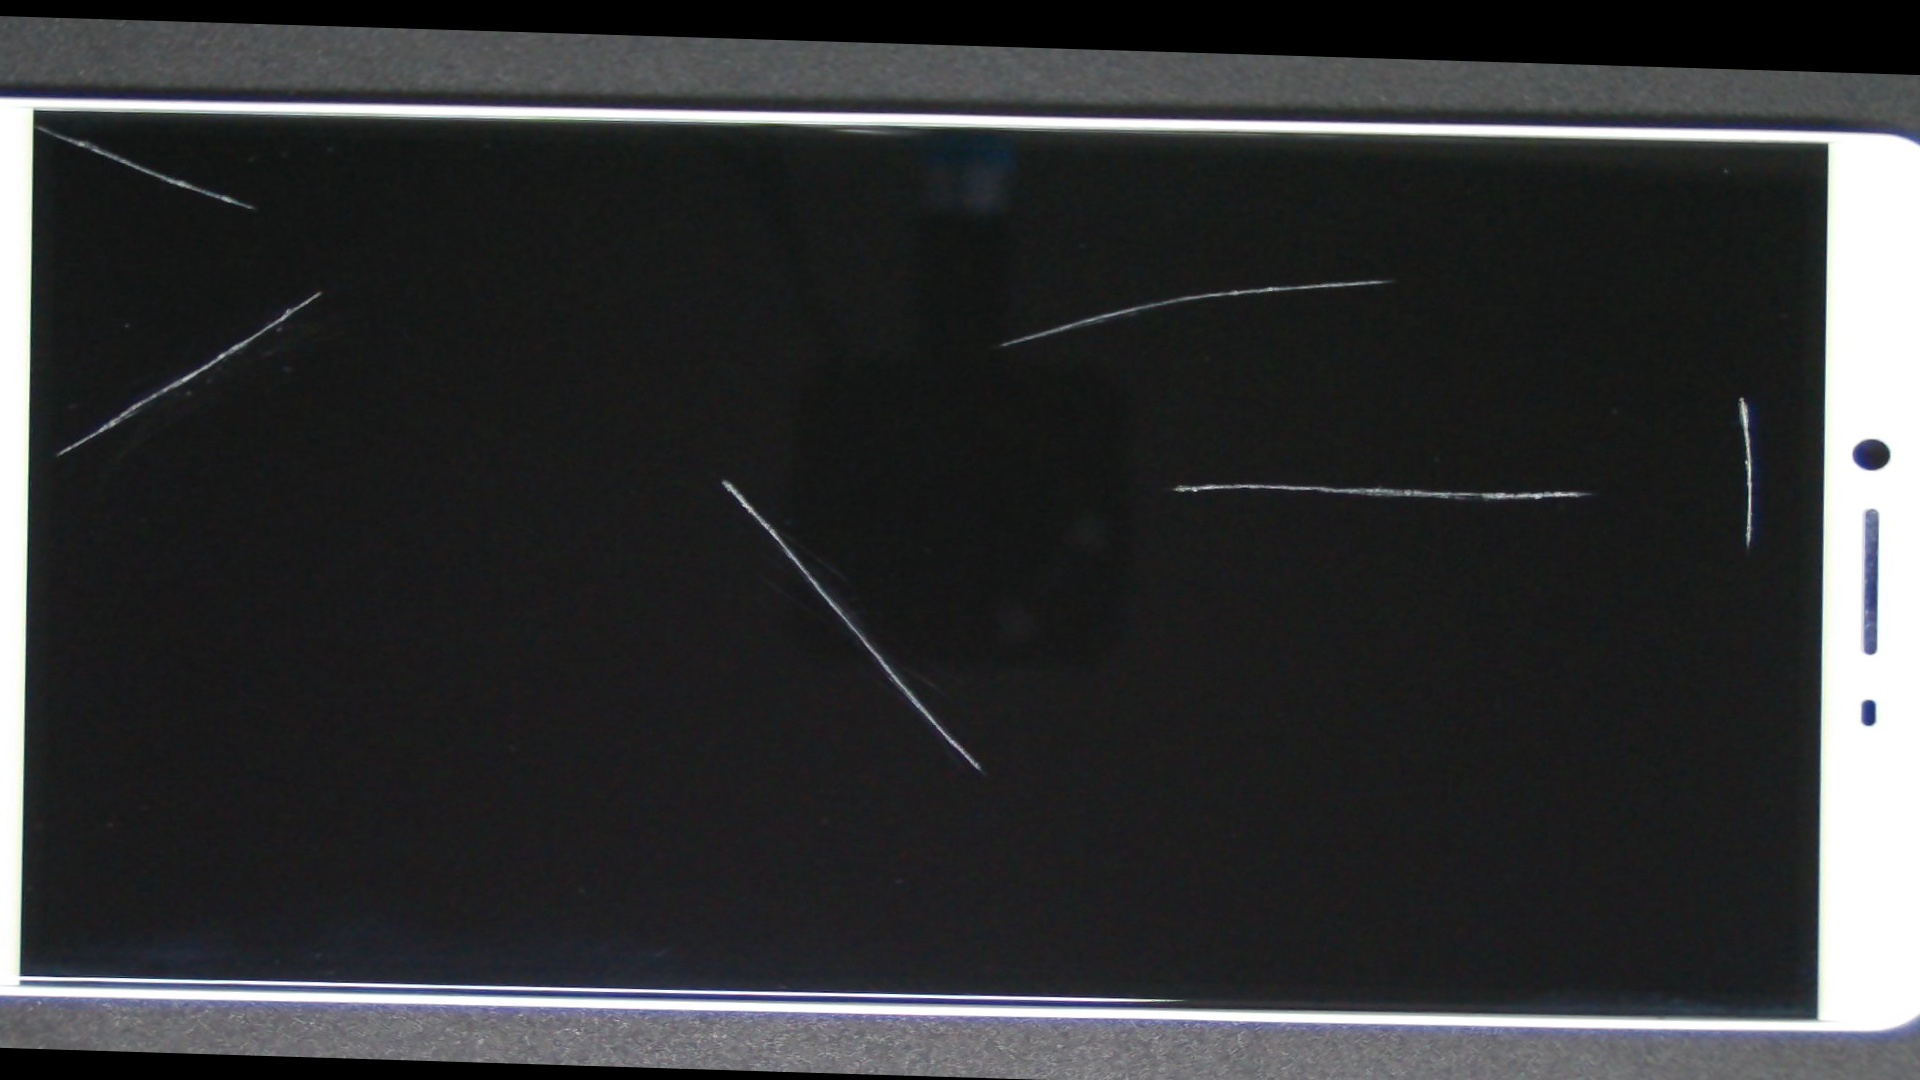oil: (705, 251, 1920, 717), (284, 244, 1164, 711), (795, 203, 1920, 568), (617, 145, 1920, 409), (88, 149, 551, 430), (0, 67, 124, 181)
